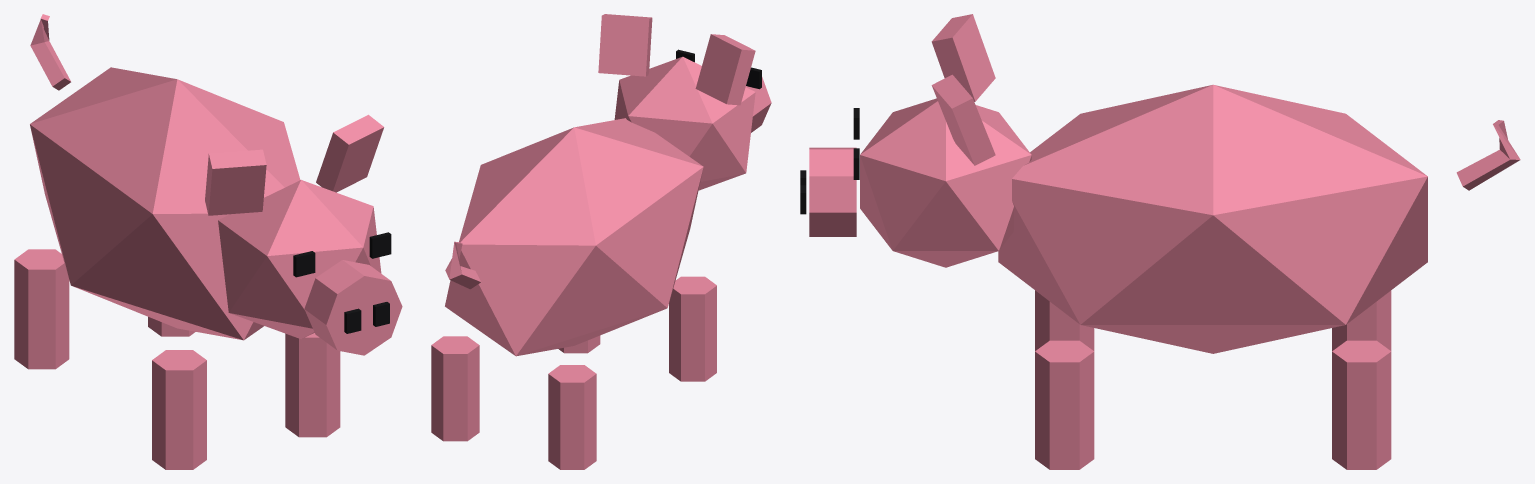
The model's file is Chancho.fbx.
The picture shows the model from 3 angles, left to right: view 1: azimuth 30°, elevation 25°; view 2: azimuth 150°, elevation 25°; view 3: azimuth 270°, elevation 25°; orthographic projection. The views are drawn at different scales.
Visible parts, largest first — view 1: Chancho; view 2: Chancho; view 3: Chancho.
Part boxes in pixels (<box>): Chancho: <box>14,14,402,469</box>; Chancho: <box>431,14,771,469</box>; Chancho: <box>800,14,1520,469</box>.
Size of the model in its own units: 0.4472 by 0.6832 by 1.21.
